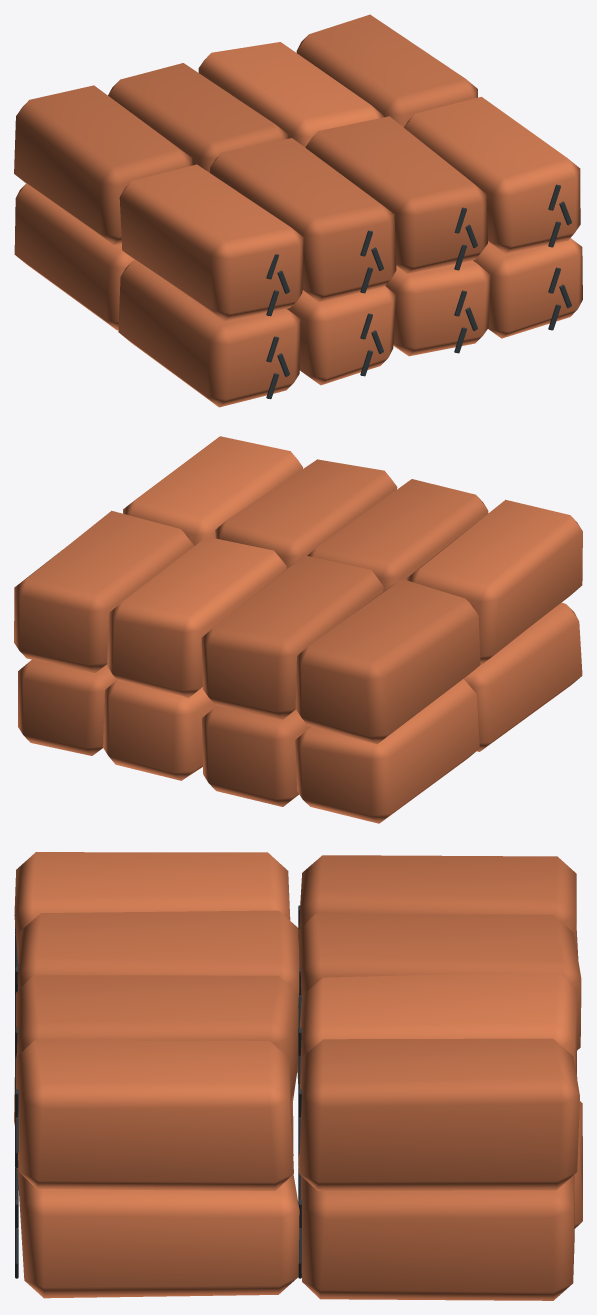
Rendered from BSC-08.glb.
The picture shows the model from 3 angles, top to bottom: view 1: azimuth 30°, elevation 25°; view 2: azimuth 150°, elevation 25°; view 3: azimuth 270°, elevation 25°; orthographic projection. The views are drawn at different scales.
Visible parts, largest first — view 1: hand-shaped masonry.008, hand-shaped masonry.009, hand-shaped masonry.010, hand-shaped masonry, hand-shaped masonry.012, hand-shaped masonry.014, hand-shaped masonry.015, hand-shaped masonry.013, hand-shaped masonry.011, hand-shaped masonry.001, hand-shaped masonry.004, hand-shaped masonry.006 (+1 smaller); view 2: hand-shaped masonry.009, hand-shaped masonry.011, hand-shaped masonry.015, hand-shaped masonry.013, hand-shaped masonry.008, hand-shaped masonry.001, hand-shaped masonry.012, hand-shaped masonry.010, hand-shaped masonry.014, hand-shaped masonry, hand-shaped masonry.005, hand-shaped masonry.003 (+1 smaller); view 3: hand-shaped masonry.015, hand-shaped masonry.014, hand-shaped masonry.007, hand-shaped masonry.006, hand-shaped masonry.012, hand-shaped masonry.013, hand-shaped masonry.010, hand-shaped masonry.011, hand-shaped masonry.008, hand-shaped masonry.009, hand-shaped masonry.005.
Boxes of the visible parts, x1,y1,x2,y2 form: hand-shaped masonry.008: (119, 164, 303, 321); hand-shaped masonry.009: (14, 85, 192, 244); hand-shaped masonry.010: (210, 138, 396, 301); hand-shaped masonry: (118, 260, 300, 407); hand-shaped masonry.012: (305, 116, 487, 273); hand-shaped masonry.014: (404, 96, 580, 253); hand-shaped masonry.015: (296, 14, 477, 127); hand-shaped masonry.013: (198, 42, 383, 147); hand-shaped masonry.011: (108, 63, 287, 172); hand-shaped masonry.001: (14, 183, 134, 330); hand-shaped masonry.004: (385, 260, 490, 356); hand-shaped masonry.006: (473, 238, 582, 338); hand-shaped masonry.009: (295, 579, 480, 744); hand-shaped masonry.011: (201, 555, 383, 719); hand-shaped masonry.015: (14, 510, 193, 672); hand-shaped masonry.013: (107, 536, 286, 698); hand-shaped masonry.008: (407, 499, 582, 664); hand-shaped masonry.001: (295, 679, 479, 823); hand-shaped masonry.012: (215, 459, 397, 568); hand-shaped masonry.010: (307, 479, 488, 591); hand-shaped masonry.014: (123, 436, 302, 546); hand-shaped masonry: (463, 602, 582, 751); hand-shaped masonry.005: (103, 680, 216, 780); hand-shaped masonry.003: (202, 705, 311, 806); hand-shaped masonry.015: (298, 1038, 579, 1190); hand-shaped masonry.014: (15, 1040, 293, 1190); hand-shaped masonry.007: (301, 1174, 574, 1300); hand-shaped masonry.006: (17, 1167, 299, 1298); hand-shaped masonry.012: (16, 975, 298, 1100); hand-shaped masonry.013: (297, 971, 577, 1088); hand-shaped masonry.010: (17, 910, 299, 1005); hand-shaped masonry.011: (298, 913, 581, 1050); hand-shaped masonry.008: (14, 852, 290, 963); hand-shaped masonry.009: (299, 855, 578, 966); hand-shaped masonry.005: (574, 1101, 582, 1228).
Size of the model in its own units: 1.94 by 0.8277 by 1.89.
